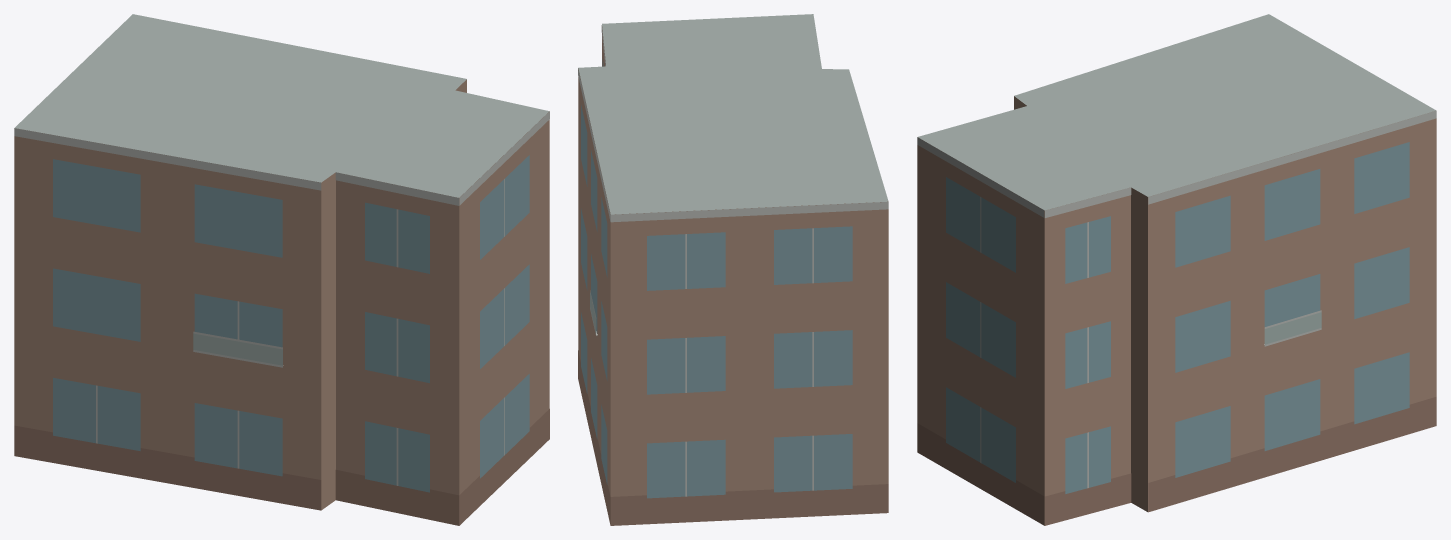
Rendered from survey-upis-32673641.glb.
3 renders of one model, left to right at view 1: azimuth 30°, elevation 25°; view 2: azimuth 150°, elevation 25°; view 3: azimuth 270°, elevation 25°, orthographic. The views are drawn at different scales.
Visible parts, largest first — view 1: survey-upis-32673641.tmp; view 2: survey-upis-32673641.tmp; view 3: survey-upis-32673641.tmp.
Part boxes in pixels (x1,y1,x2,y2): survey-upis-32673641.tmp: (14,14,549,525); survey-upis-32673641.tmp: (578,14,888,525); survey-upis-32673641.tmp: (917,14,1436,525).
Bounding box in the file's own units: 13.24 × 9.9 × 14.78.
